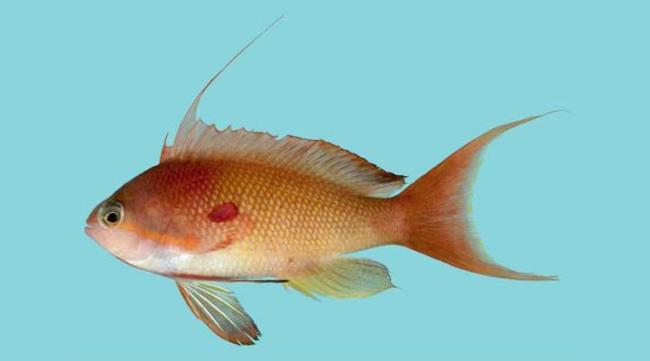fish: (84, 108, 574, 346)
